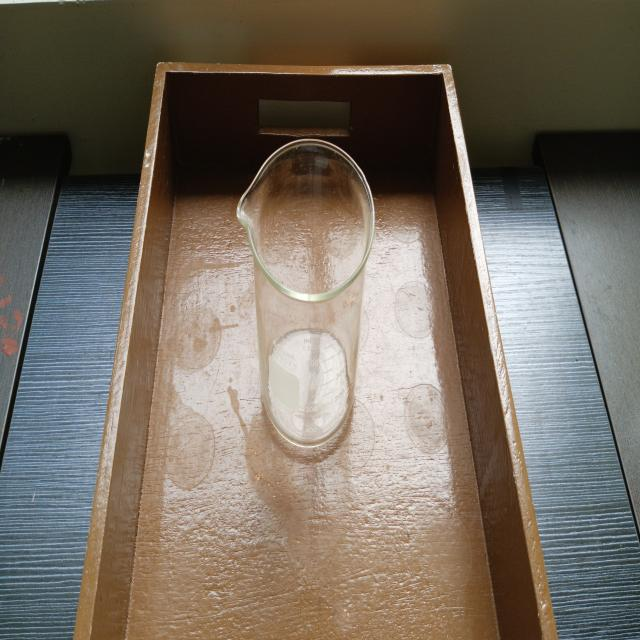beaker: (232, 132, 379, 453)
